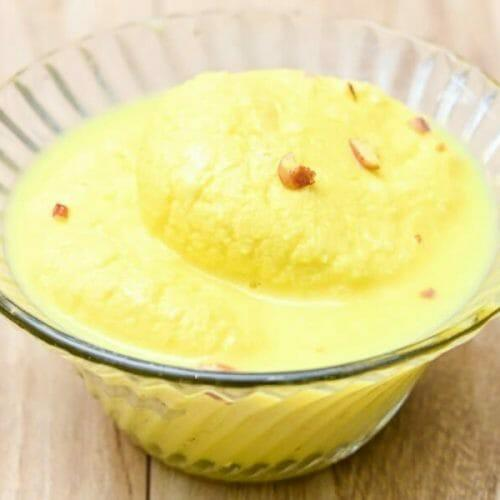RasMalai: (0, 63, 500, 366)
